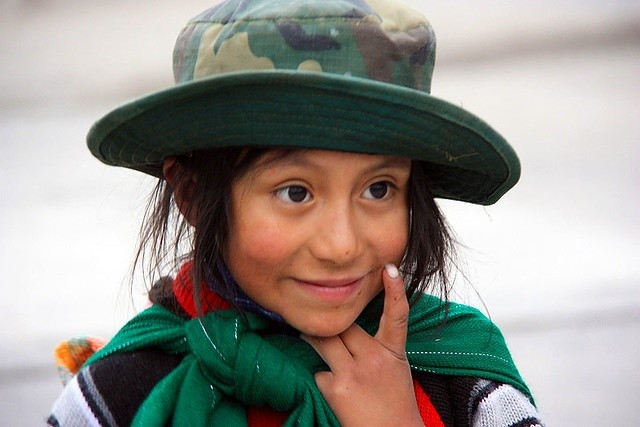face_no_mask: (204, 110, 415, 343)
